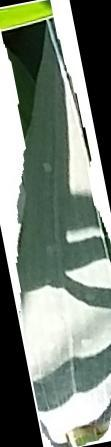Wheat: (20, 31, 68, 278)
